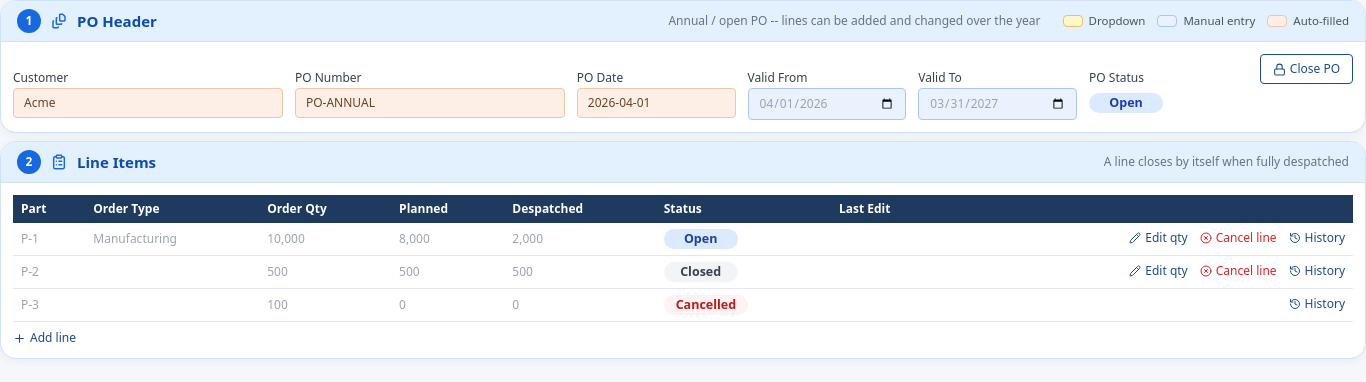
Scenario: PO view › DB refusal shown in the toast
Click the button "Edit qty" in the row of "P-1" at coordinates (1158, 238), box [1129,230,1188,246]
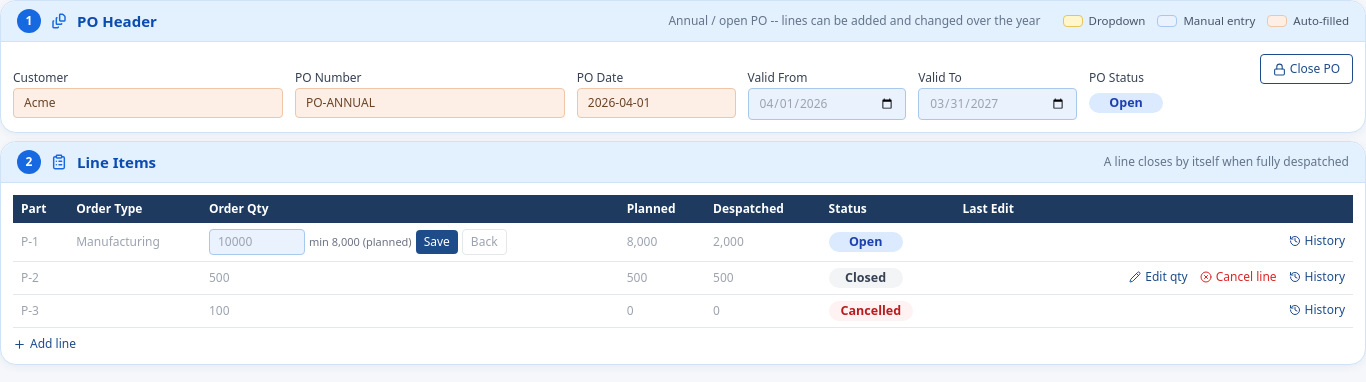
Now the text "min 8,000 (planned)" is shown, box [309,234,412,250]
Replace the text in the number field named "New order qty" with "8500" at coordinates (257, 242), box [209,229,305,255]
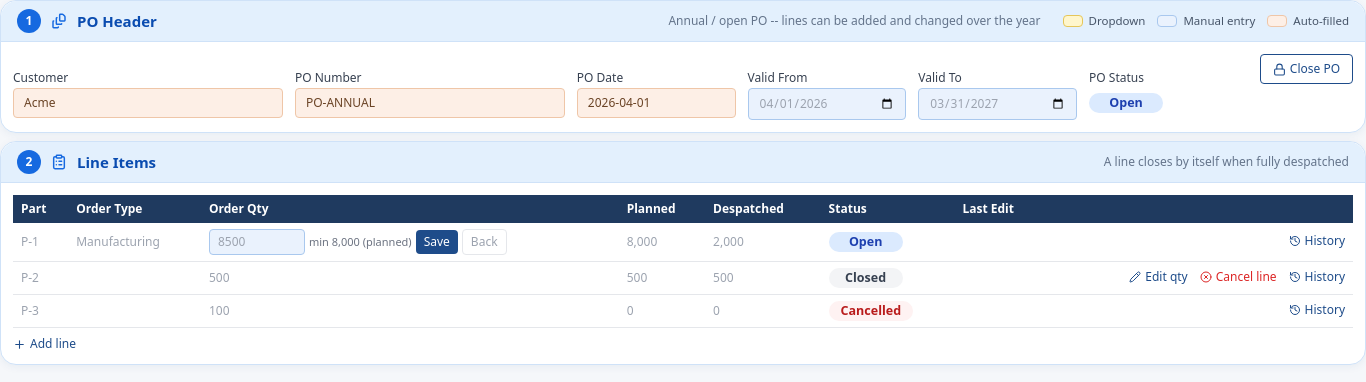
Click the button "Save" at coordinates (437, 242), box [416,230,458,254]
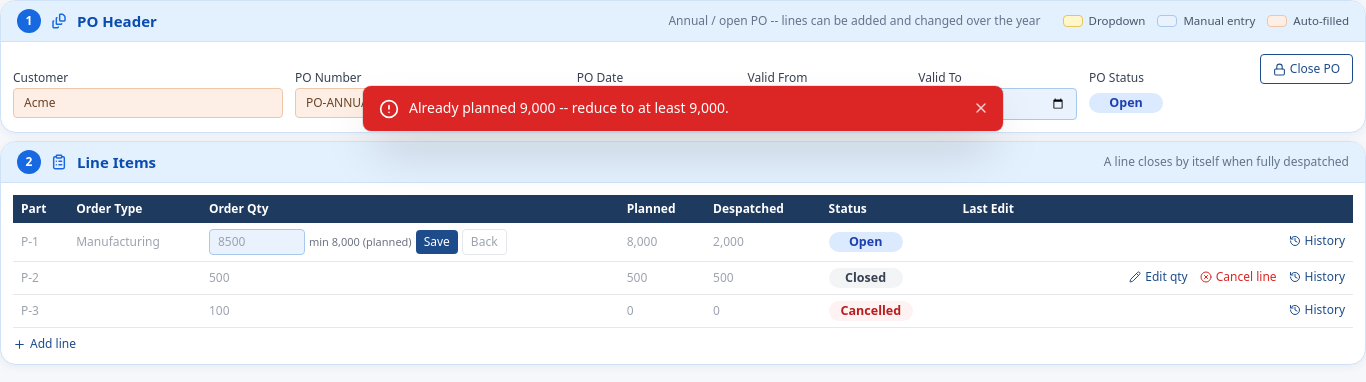
Now the text "Already planned 9,000 -- reduce to at least 9,000." is shown, box [409,98,729,117]
